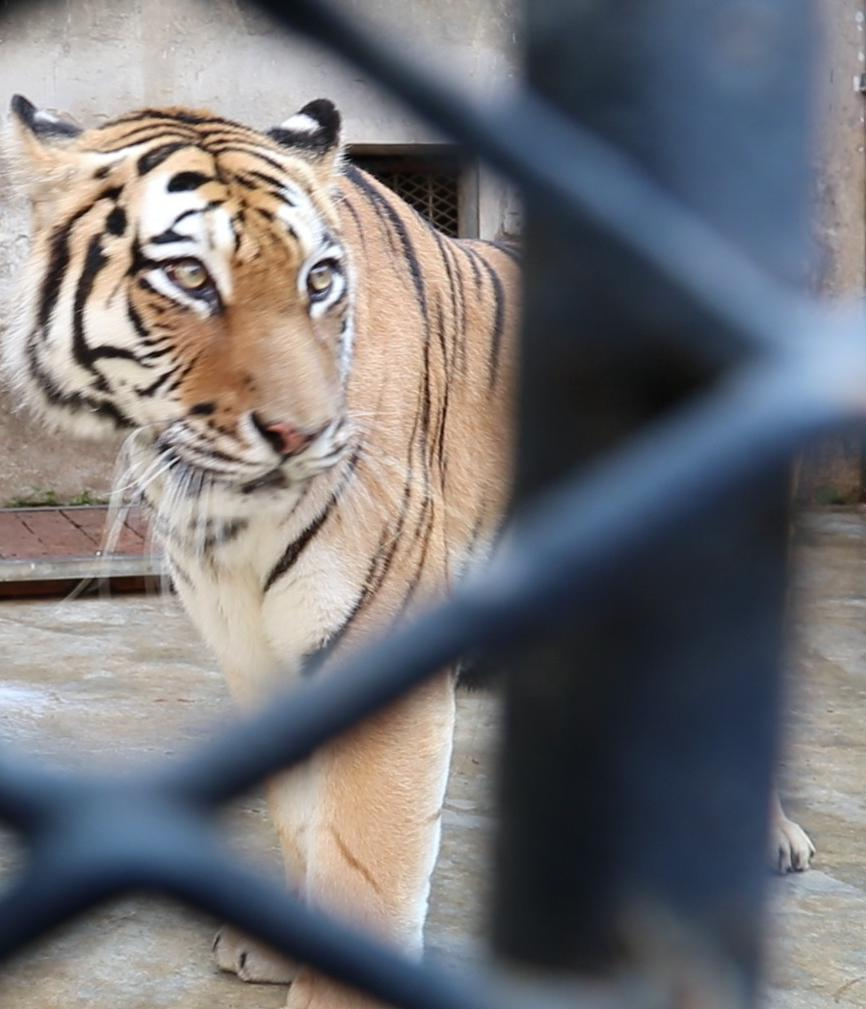tiger: (6, 96, 519, 704)
